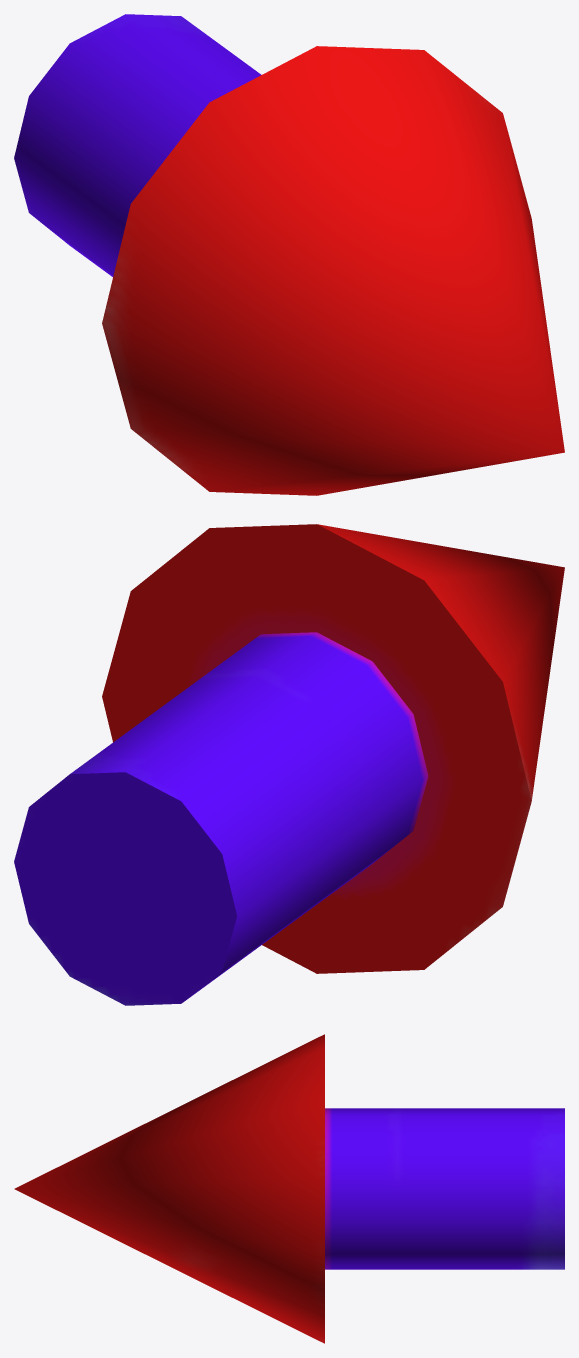
File: north.glb
3 renders of one model, top to bottom at view 1: azimuth 30°, elevation 25°; view 2: azimuth 150°, elevation 25°; view 3: azimuth 270°, elevation 25°, orthographic. The views are drawn at different scales.
Parts seen in each view (by area): view 1: Cone; view 2: Cone; view 3: Cone.
Boxes of the visible parts, left/top/right/bottom form: Cone: left=14, top=14, right=564, bottom=495; Cone: left=14, top=524, right=564, bottom=1005; Cone: left=14, top=1034, right=564, bottom=1343.
Bounding box in the file's own units: 2 × 2 × 3.54.
Materials: 1 (1 with a texture image).
